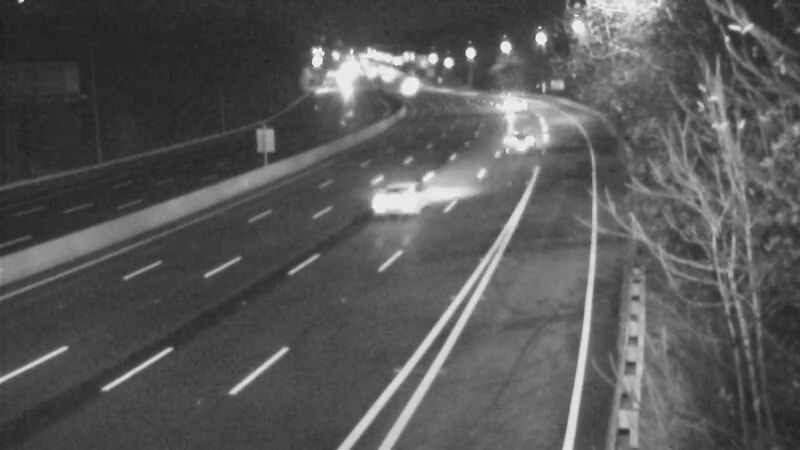vehicle: (352, 156, 432, 236), (491, 79, 541, 129), (494, 119, 544, 169)
